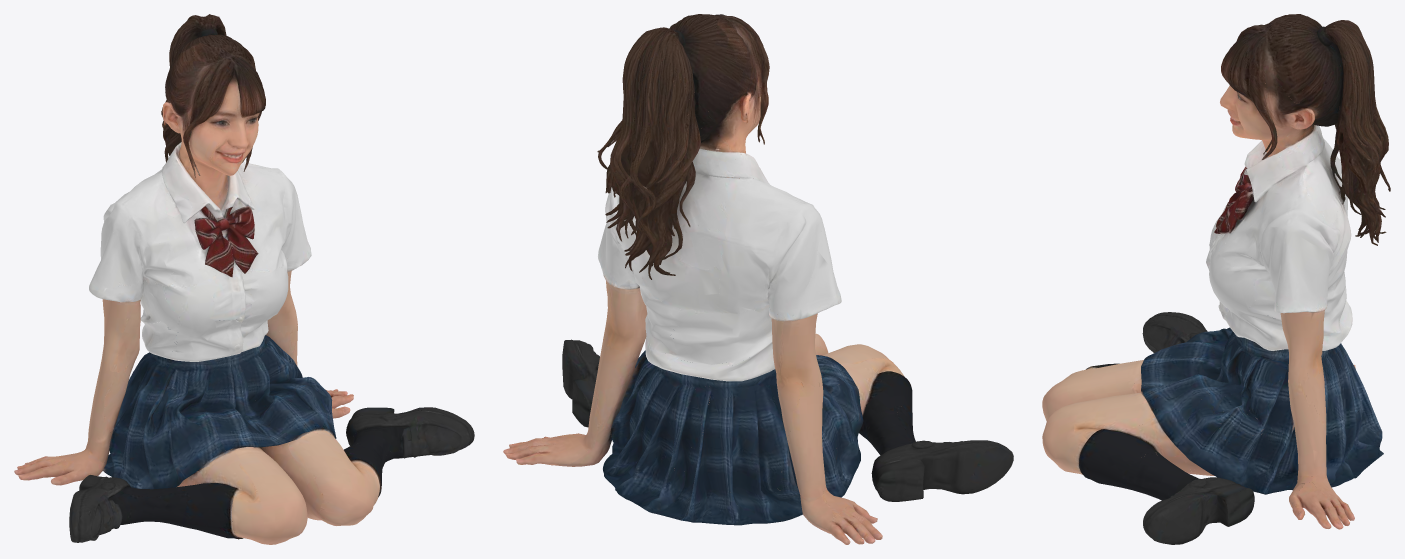
The model's file is SUP_japanese_school_girl_v25.glb.
3 renders of one model, left to right at view 1: azimuth 30°, elevation 25°; view 2: azimuth 150°, elevation 25°; view 3: azimuth 270°, elevation 25°, orthographic. The views are drawn at different scales.
Visible parts, largest first — view 1: SUP_japanese_school_girl_v25; view 2: SUP_japanese_school_girl_v25; view 3: SUP_japanese_school_girl_v25.
Part boxes in pixels (box(x1,y1,x2,y2)): SUP_japanese_school_girl_v25: box(14, 14, 474, 544); SUP_japanese_school_girl_v25: box(503, 14, 1013, 544); SUP_japanese_school_girl_v25: box(1042, 14, 1390, 544).
Size of the model in its own units: 0.999 by 1 by 0.7161.
Materials: 1 (1 with a texture image).
